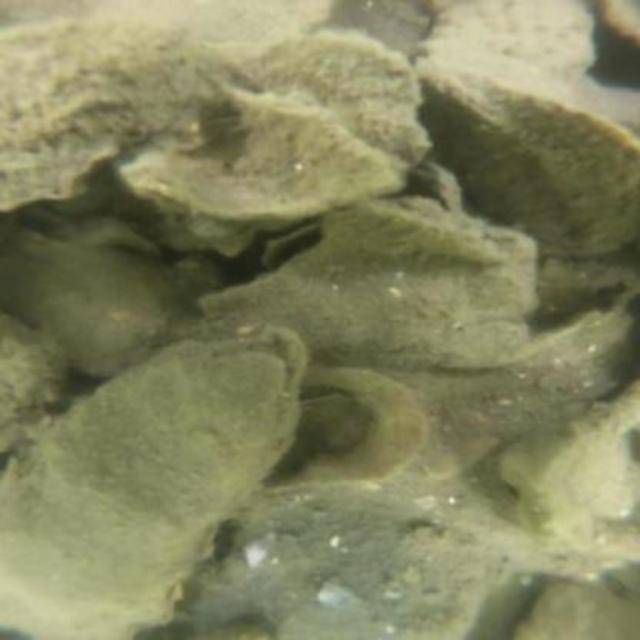Oyster-Closed: (13, 333, 312, 628), (199, 198, 536, 366), (114, 91, 463, 252), (1, 18, 252, 206), (419, 59, 638, 257), (240, 31, 436, 178), (253, 359, 436, 498), (7, 233, 187, 373), (423, 0, 610, 100), (87, 1, 345, 50), (4, 315, 64, 445), (517, 580, 638, 635)
Oyster-Open: (255, 219, 327, 279)
